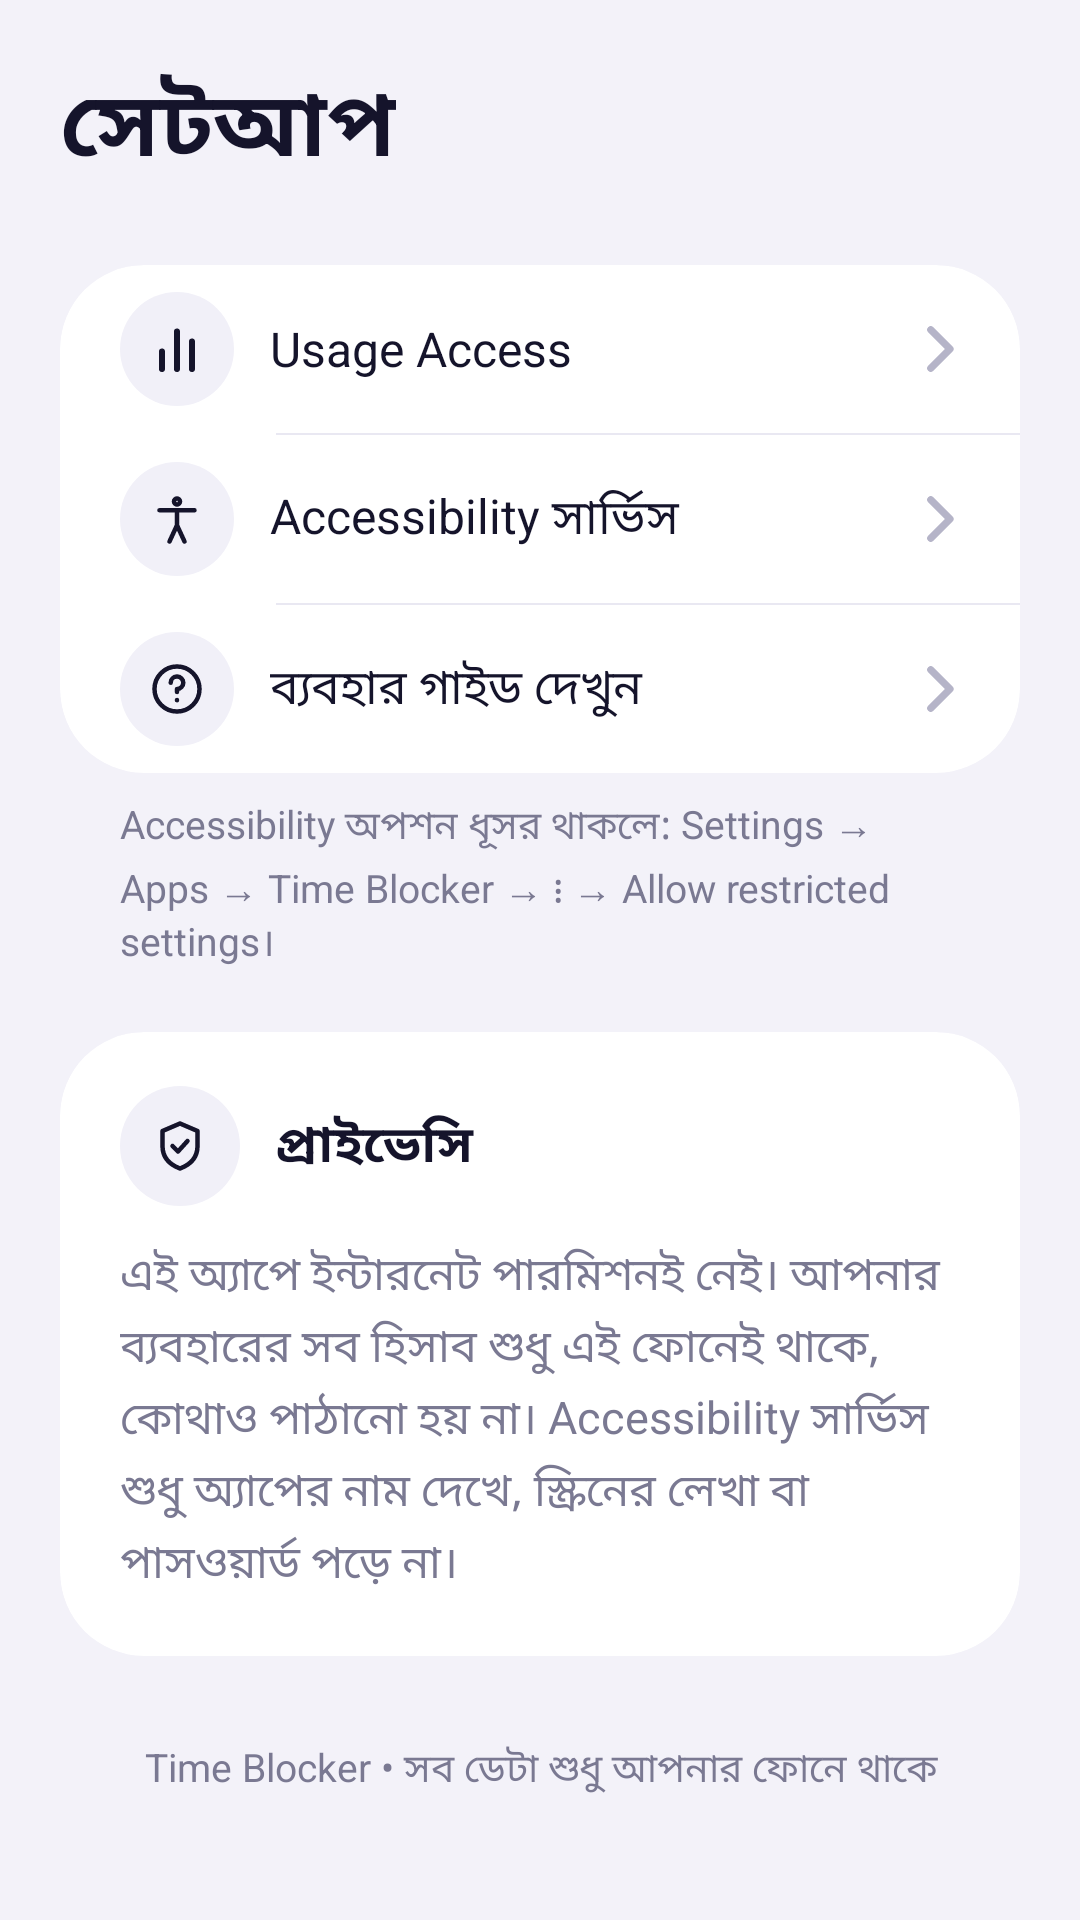

Where icons sit on this 1080 x 1920 app screen, as box(x1, y1, x2, y2):
chart: box(120, 292, 234, 406)
chevron: box(927, 326, 954, 372), box(927, 496, 954, 542), box(927, 666, 954, 712)
help: box(120, 632, 234, 746)
shield: box(120, 1086, 240, 1206)
